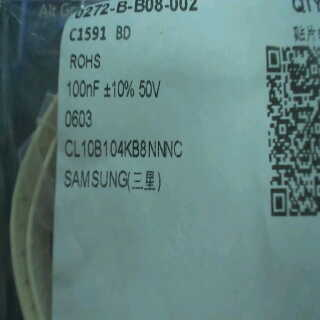100nF: (60, 78, 100, 103)
